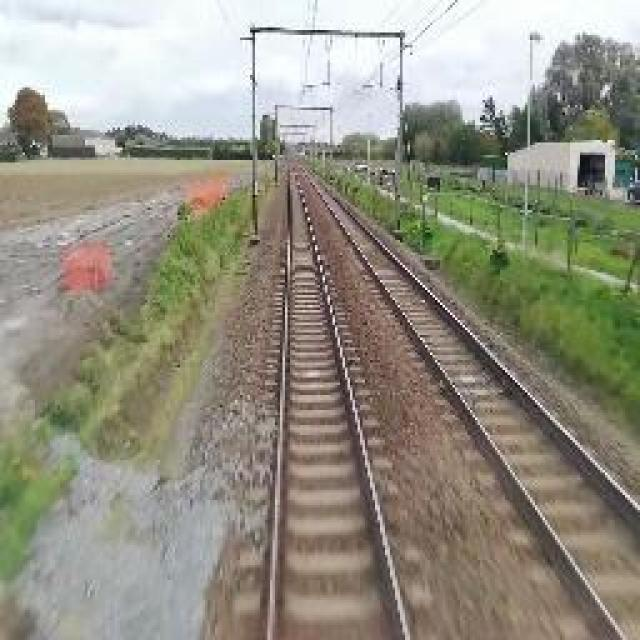rail: (239, 162, 443, 640)
